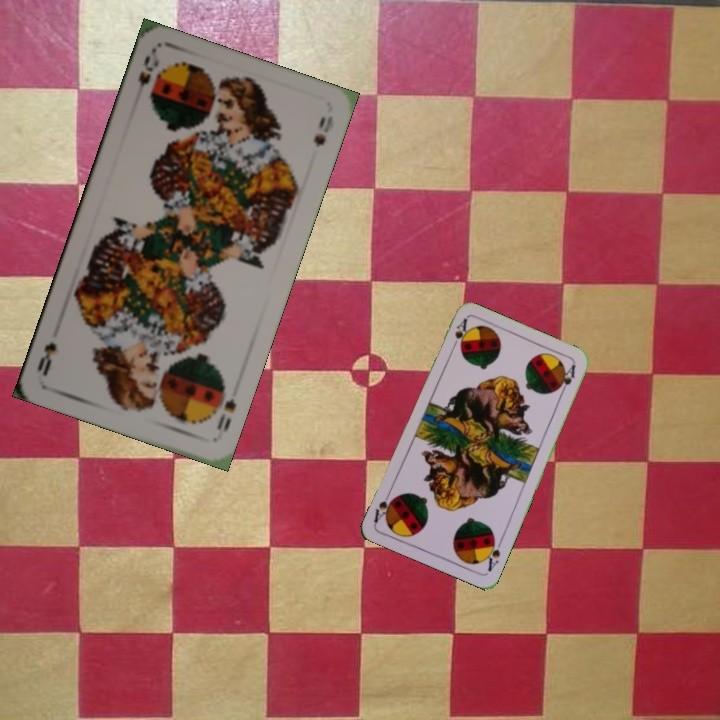SA: (480, 533, 505, 574), (447, 315, 470, 354)
SO: (134, 50, 162, 90), (212, 395, 239, 434)
